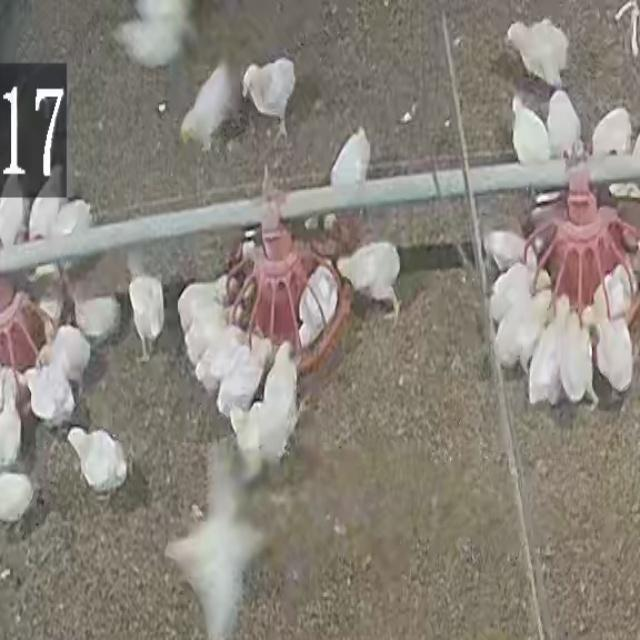chicken: (169, 506, 251, 639), (216, 402, 296, 478), (180, 60, 236, 152), (336, 238, 402, 316), (530, 293, 573, 407), (114, 3, 188, 69), (582, 302, 634, 390), (498, 286, 548, 377), (66, 424, 129, 494), (222, 339, 274, 423), (506, 18, 570, 86), (485, 259, 553, 317), (197, 324, 254, 392), (299, 257, 340, 349), (263, 328, 297, 435), (126, 272, 166, 362), (241, 55, 293, 124), (45, 199, 95, 268), (17, 366, 76, 424), (33, 323, 89, 382), (29, 164, 60, 269), (184, 302, 243, 357), (563, 313, 597, 406), (178, 273, 230, 331), (482, 227, 545, 273), (27, 246, 65, 319), (511, 97, 551, 166), (546, 86, 583, 160), (328, 128, 371, 191), (72, 291, 120, 346), (591, 106, 633, 156), (591, 268, 629, 323), (0, 470, 36, 524)
